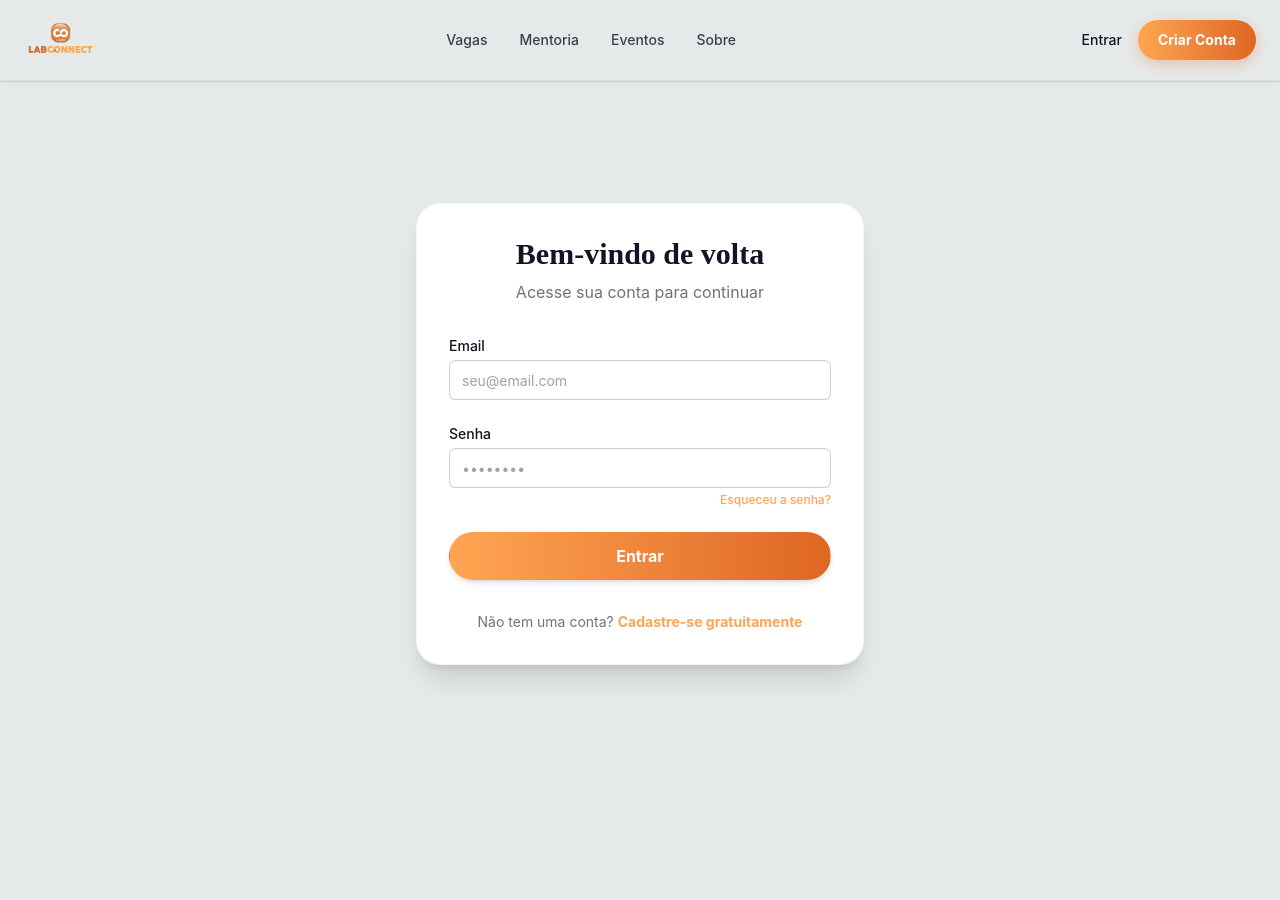
Test: LoginPage › shows validation errors for empty fields
Click the button "Entrar".
click(640, 556)  # box [449,532,831,580]
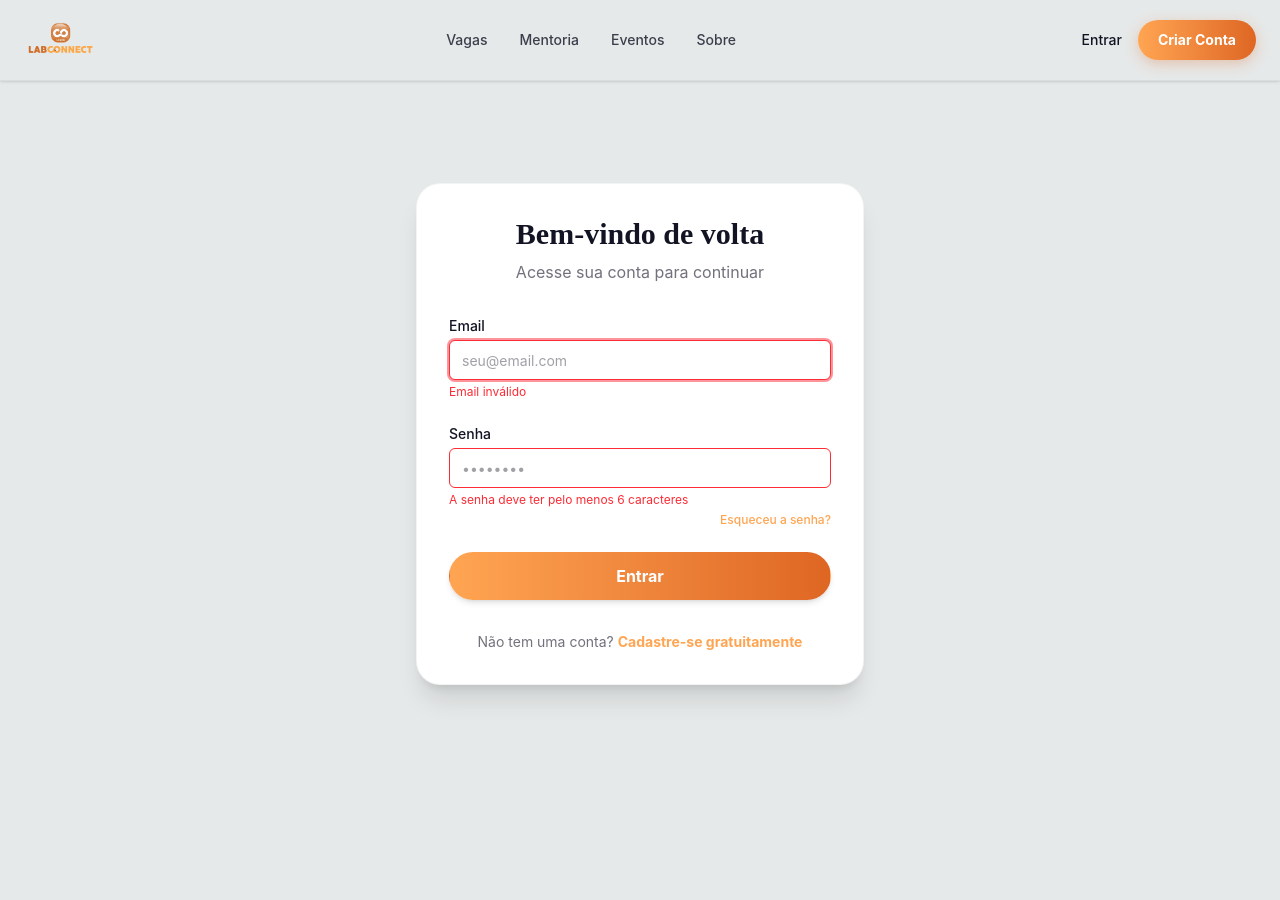
Result: the text "Email inválido" is shown at [449,384,526,399]
Result: the text "A senha deve ter pelo menos 6 caracteres" is shown at [449,492,688,507]
